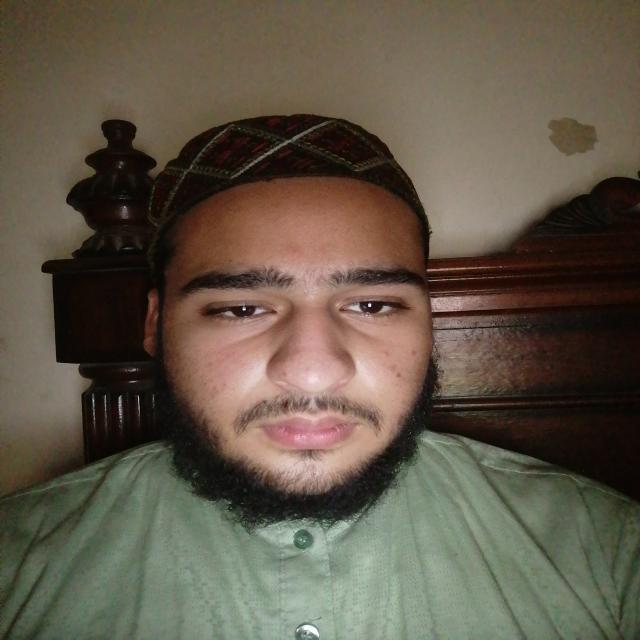Acne: (207, 378, 230, 399), (389, 362, 403, 381), (288, 244, 301, 255), (290, 346, 303, 357), (408, 349, 418, 358), (306, 464, 316, 472), (205, 359, 214, 366), (381, 350, 389, 357), (280, 370, 288, 377)
